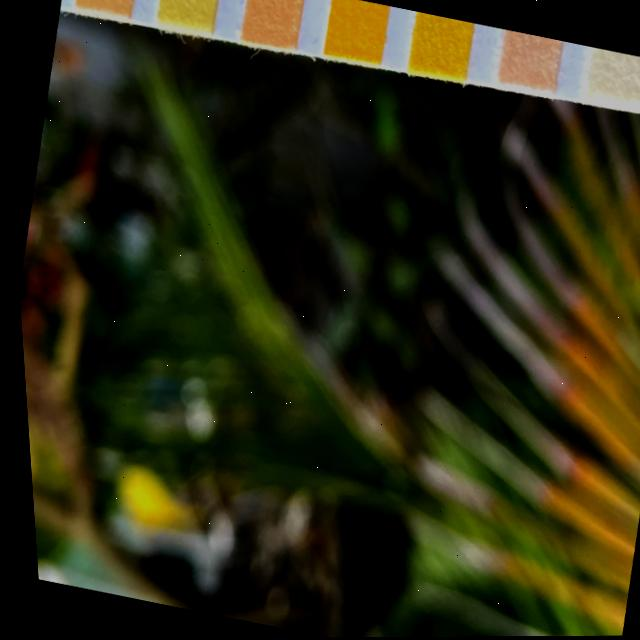Bilirubin: (585, 46, 640, 110)
Blood: (322, 0, 388, 63)
Ketone: (497, 29, 562, 94)
Protein: (156, 0, 222, 31)
SpGravity: (406, 10, 472, 78)
Urobilinogen: (76, 0, 142, 19)
pH: (237, 0, 304, 47)
